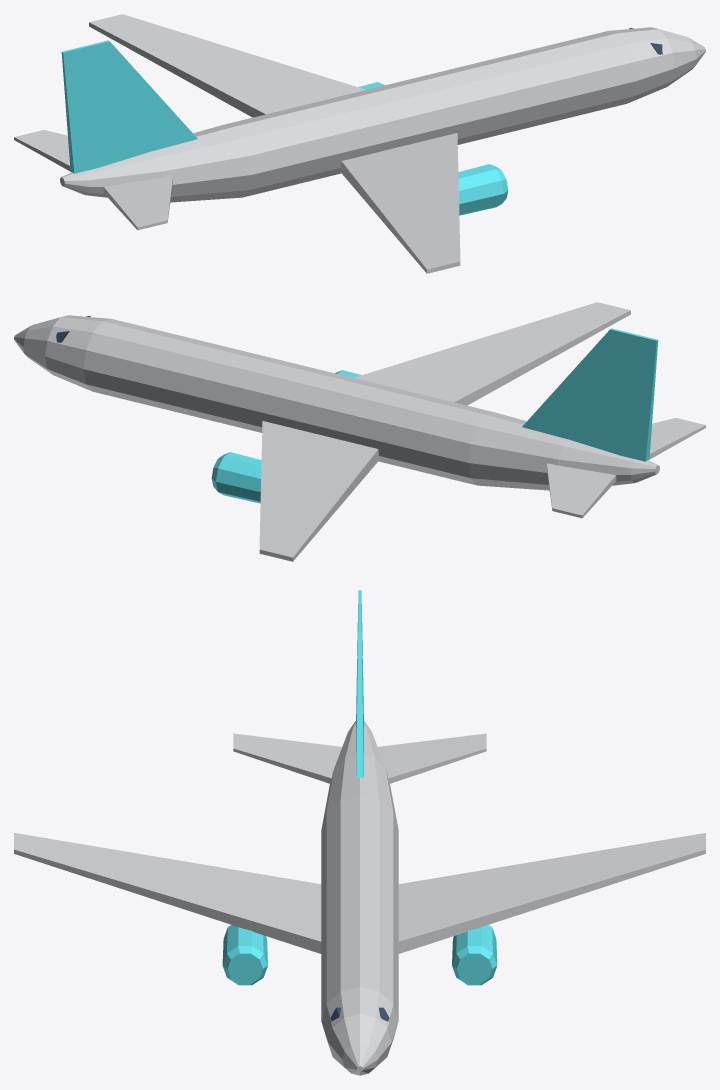
File: airplane.glb
The picture shows the model from 3 angles, top to bottom: view 1: azimuth 30°, elevation 25°; view 2: azimuth 150°, elevation 25°; view 3: azimuth 270°, elevation 25°; orthographic projection. The views are drawn at different scales.
Visible parts, largest first — view 1: Airplane; view 2: Airplane; view 3: Airplane.
Part boxes in pixels (x1,y1,x2,y2): Airplane: [14, 14, 705, 273]; Airplane: [14, 302, 705, 561]; Airplane: [14, 590, 705, 1075].
Bounding box in the file's own units: 38.4 × 11.59 × 35.
